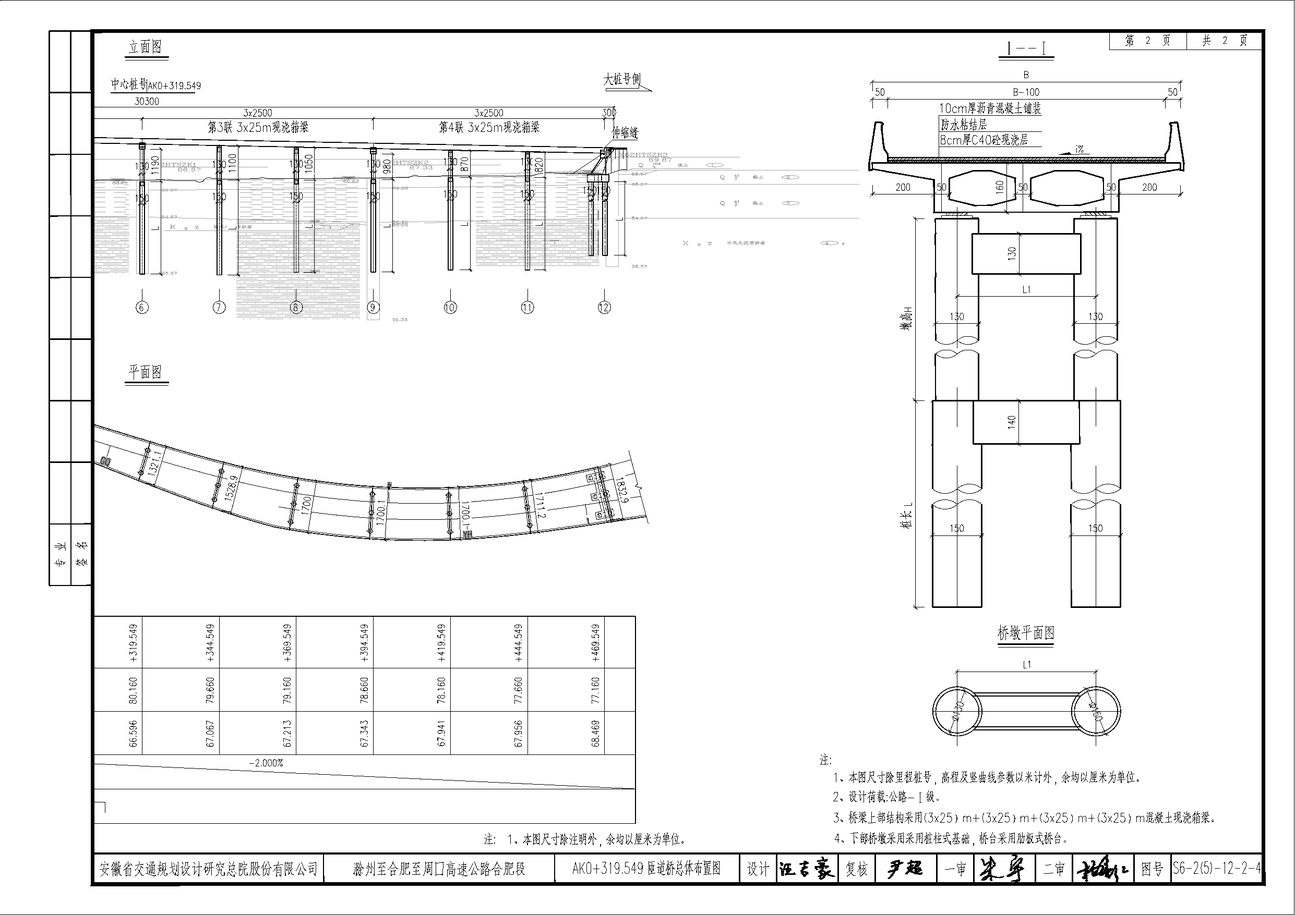A: (95, 35, 725, 342)
